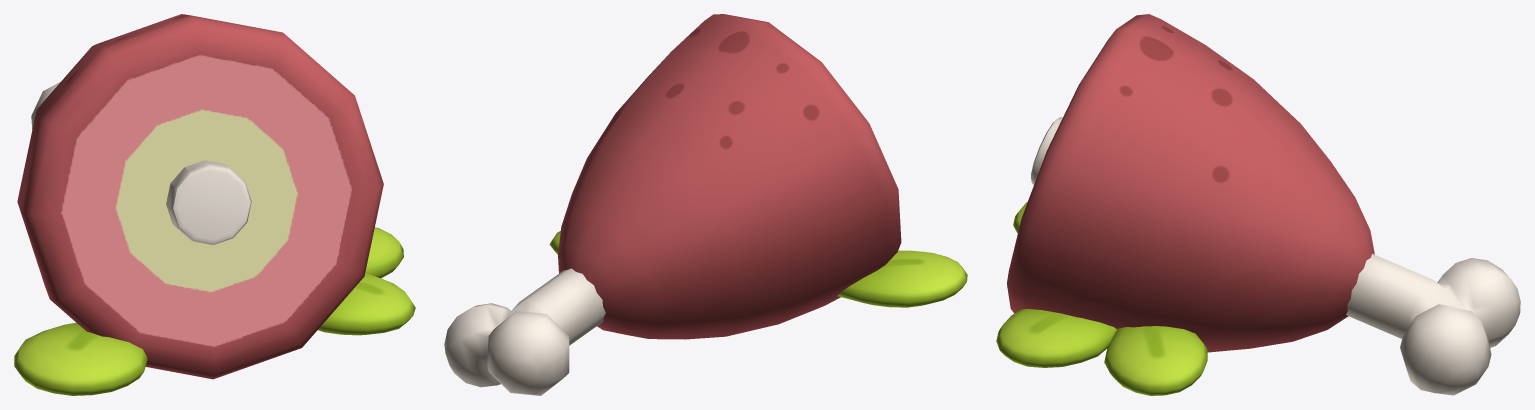
File: meat.fbx
3 views of the same model, side by side, from view 1: azimuth 30°, elevation 25°; view 2: azimuth 150°, elevation 25°; view 3: azimuth 270°, elevation 25° (orthographic). The views are drawn at different scales.
Visible parts, largest first — view 1: polySurface18; view 2: polySurface18; view 3: polySurface18.
Boxes of the visible parts, box(x1,y1,x2,y2) form: polySurface18: box(14, 14, 415, 395); polySurface18: box(444, 14, 967, 395); polySurface18: box(996, 14, 1520, 395).
Size of the model in its own units: 207 by 156 by 244.
